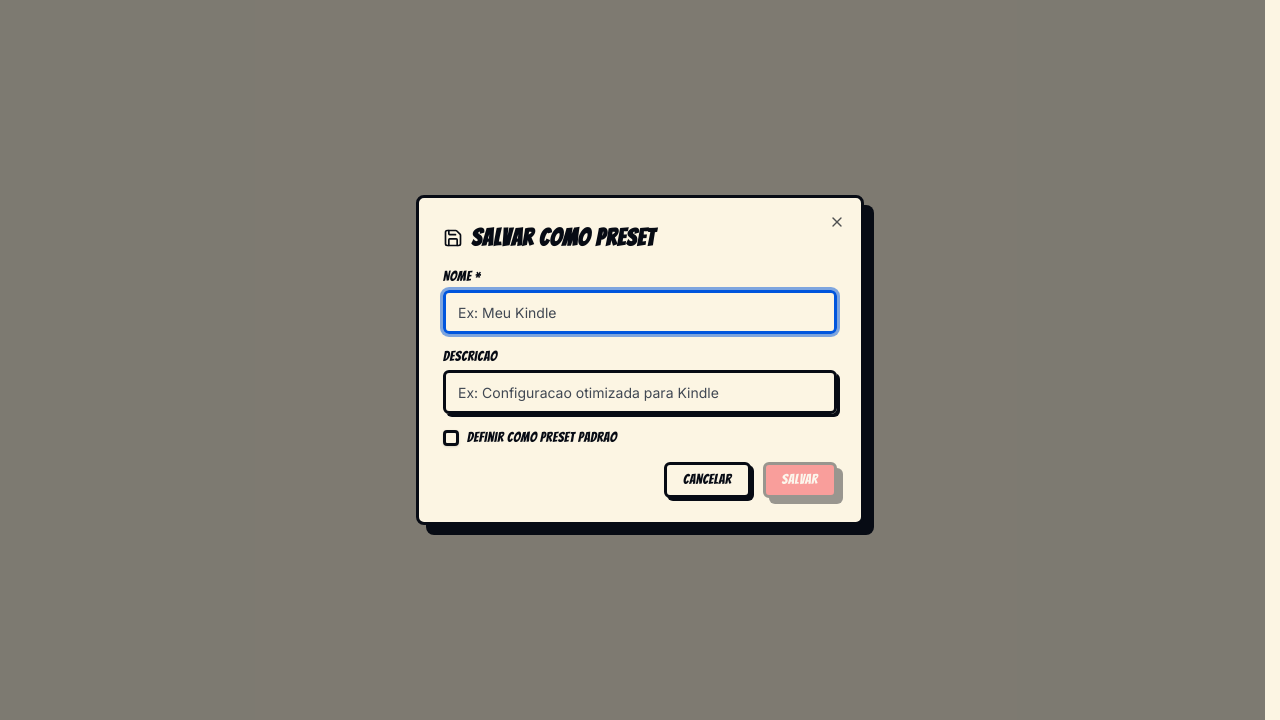
Test: SavePresetDialog › permite nome diferente mesmo com outro preset de nome similar
The width and height of the screenshot is (1280, 720).
Type "Outro Nome" into the field with placeholder "Ex: Meu Kindle". click: [640, 312]
box: [443,290,837,334]
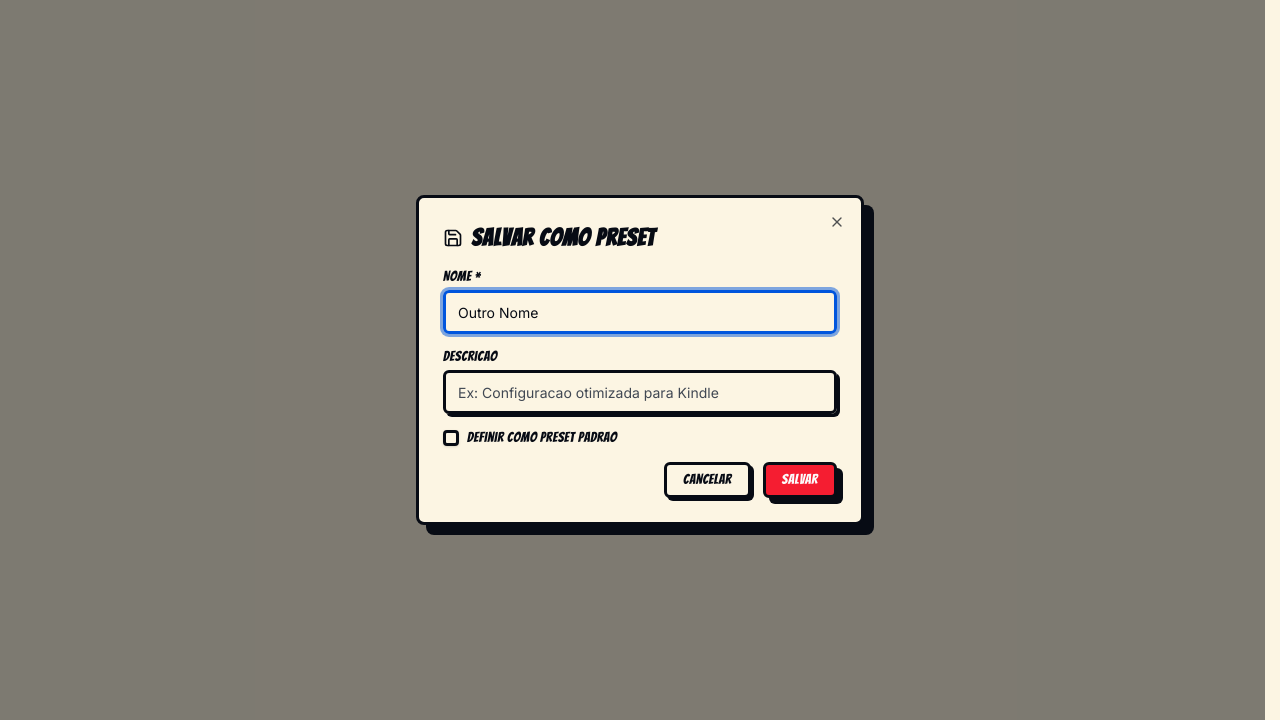
Expected: the button "Salvar" is enabled, [763,462,837,498]
